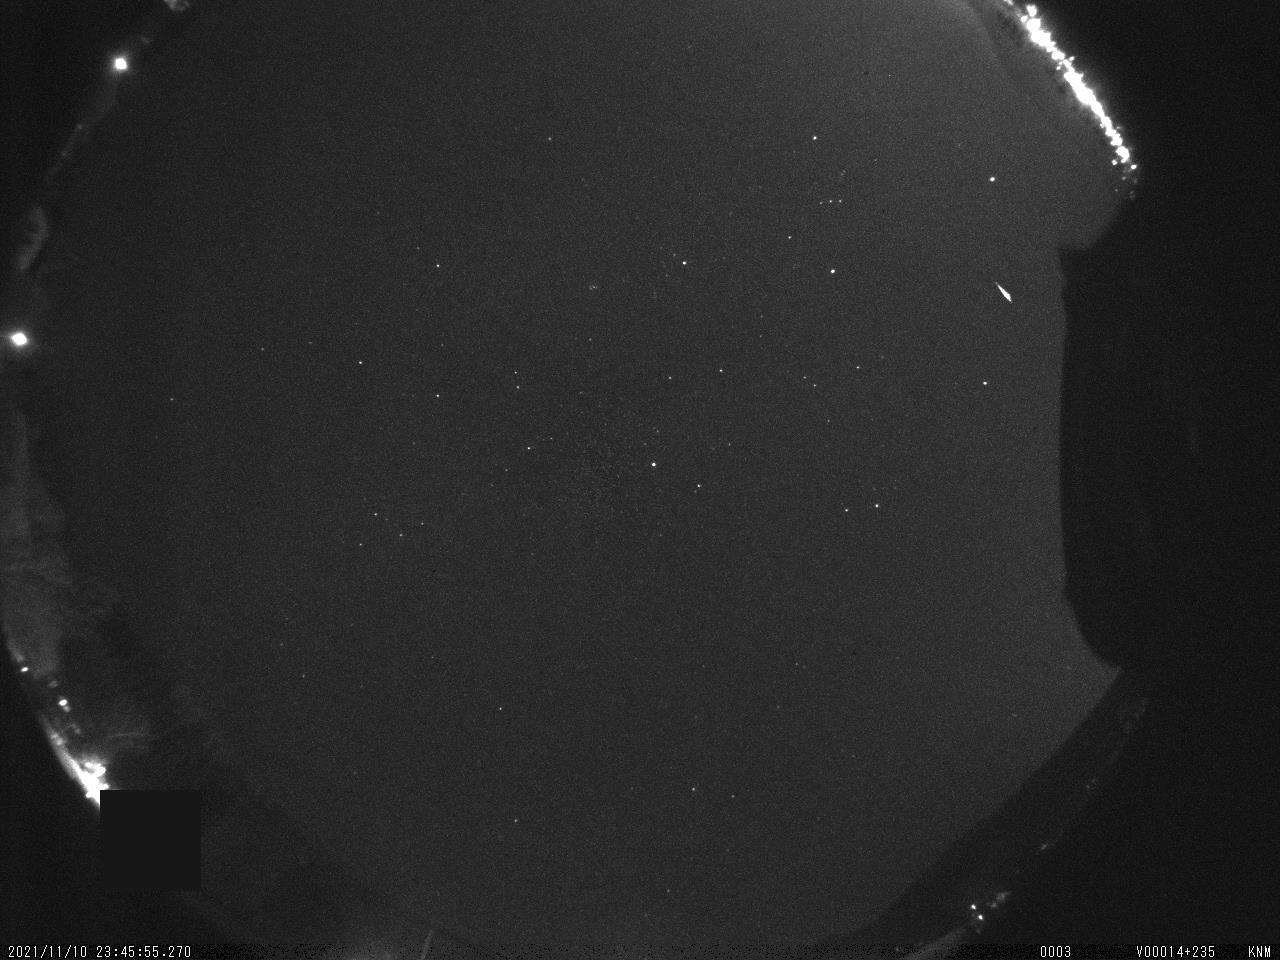meteor: (978, 271, 1026, 307)
